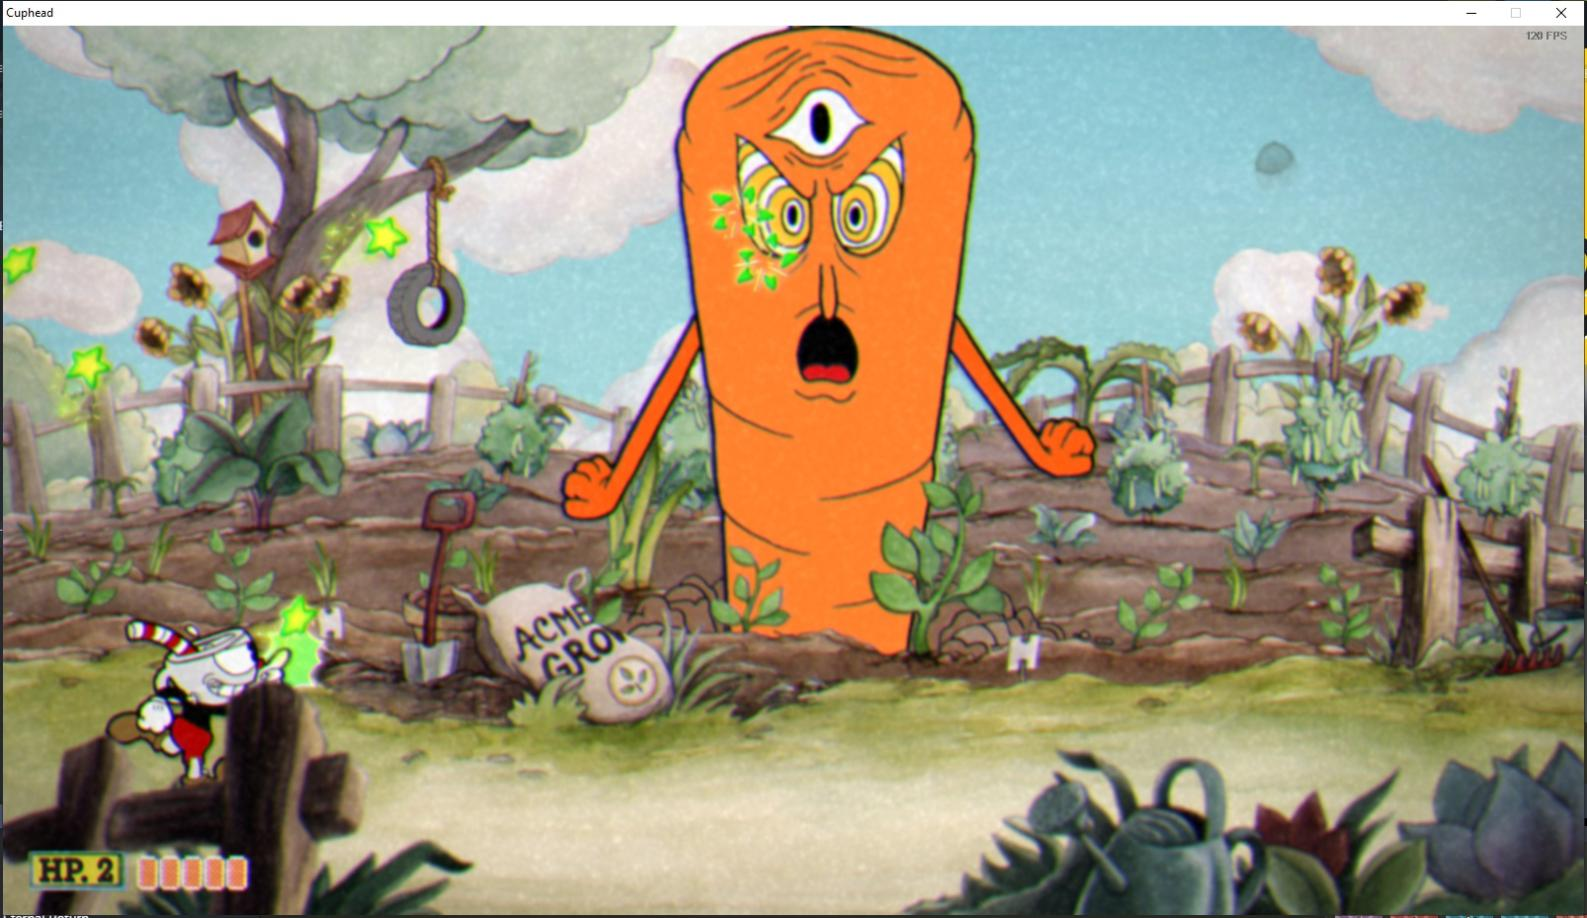carrot_boss: (656, 20, 1008, 663)
hp2: (91, 852, 122, 888)
player: (98, 600, 292, 798)
